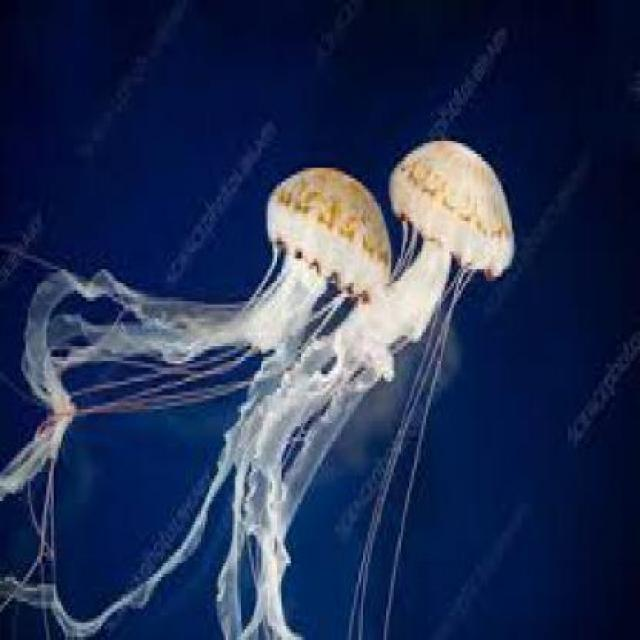Jellyfish: (214, 132, 516, 637), (2, 161, 392, 462)
